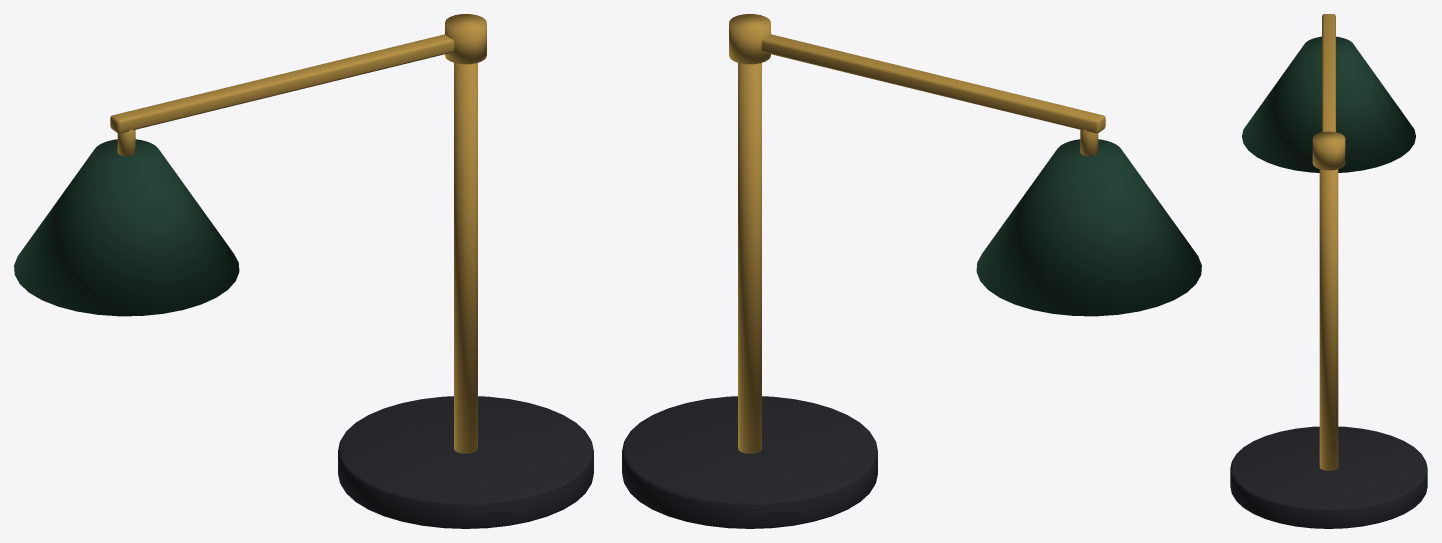
The model's file is desk_lamp.glb.
The picture shows the model from 3 angles, left to right: view 1: azimuth 30°, elevation 25°; view 2: azimuth 150°, elevation 25°; view 3: azimuth 270°, elevation 25°; orthographic projection. The views are drawn at different scales.
Visible parts, largest first — view 1: Lamp_Base, Lamp_Shade, Lamp_Post, Lamp_Arm, Lamp_Joint; view 2: Lamp_Base, Lamp_Shade, Lamp_Post, Lamp_Arm, Lamp_Joint; view 3: Lamp_Base, Lamp_Shade, Lamp_Post, Lamp_Arm, Lamp_Joint.
Boxes of the visible parts, x1,y1,x2,y2 form: Lamp_Base: (338, 396, 593, 528); Lamp_Shade: (14, 139, 239, 316); Lamp_Post: (454, 63, 477, 453); Lamp_Arm: (110, 34, 454, 133); Lamp_Joint: (445, 14, 486, 64); Lamp_Base: (622, 396, 877, 528); Lamp_Shade: (976, 139, 1201, 316); Lamp_Post: (738, 63, 761, 453); Lamp_Arm: (761, 34, 1105, 133); Lamp_Joint: (729, 14, 770, 64); Lamp_Base: (1230, 426, 1427, 528); Lamp_Shade: (1242, 36, 1415, 172); Lamp_Post: (1319, 169, 1338, 470); Lamp_Arm: (1322, 14, 1335, 131); Lamp_Joint: (1312, 131, 1345, 170).
Size of the model in its own units: 0.42 by 0.332 by 0.17.
